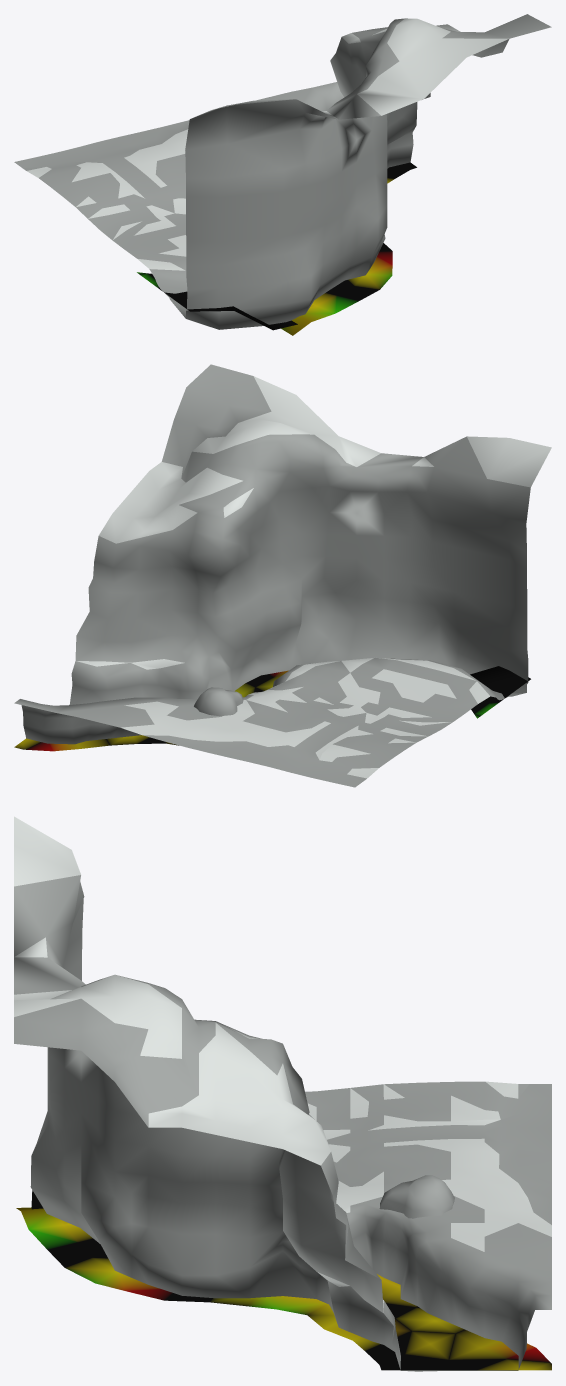
3 views of the same model, one above another, from view 1: azimuth 30°, elevation 25°; view 2: azimuth 150°, elevation 25°; view 3: azimuth 270°, elevation 25° (orthographic). The views are drawn at different scales.
Visible parts, largest first — view 1: G:\FFXIV-MapTools\exports\f1t2\bg\ffxiv\fst_f1\twn\f1t2\bgpl (×11); view 2: G:\FFXIV-MapTools\exports\f1t2\bg\ffxiv\fst_f1\twn\f1t2\bgpl (×12); view 3: G:\FFXIV-MapTools\exports\f1t2\bg\ffxiv\fst_f1\twn\f1t2\bgpl (×11).
Part boxes in pixels (bbox=[...]): G:\FFXIV-MapTools\exports\f1t2\bg\ffxiv\fst_f1\twn\f1t2\bgpl (×11): bbox=[14, 14, 551, 335]; G:\FFXIV-MapTools\exports\f1t2\bg\ffxiv\fst_f1\twn\f1t2\bgpl (×12): bbox=[14, 364, 551, 787]; G:\FFXIV-MapTools\exports\f1t2\bg\ffxiv\fst_f1\twn\f1t2\bgpl (×11): bbox=[14, 816, 551, 1370].
Size of the model in its own units: 64 by 44.18 by 64.
